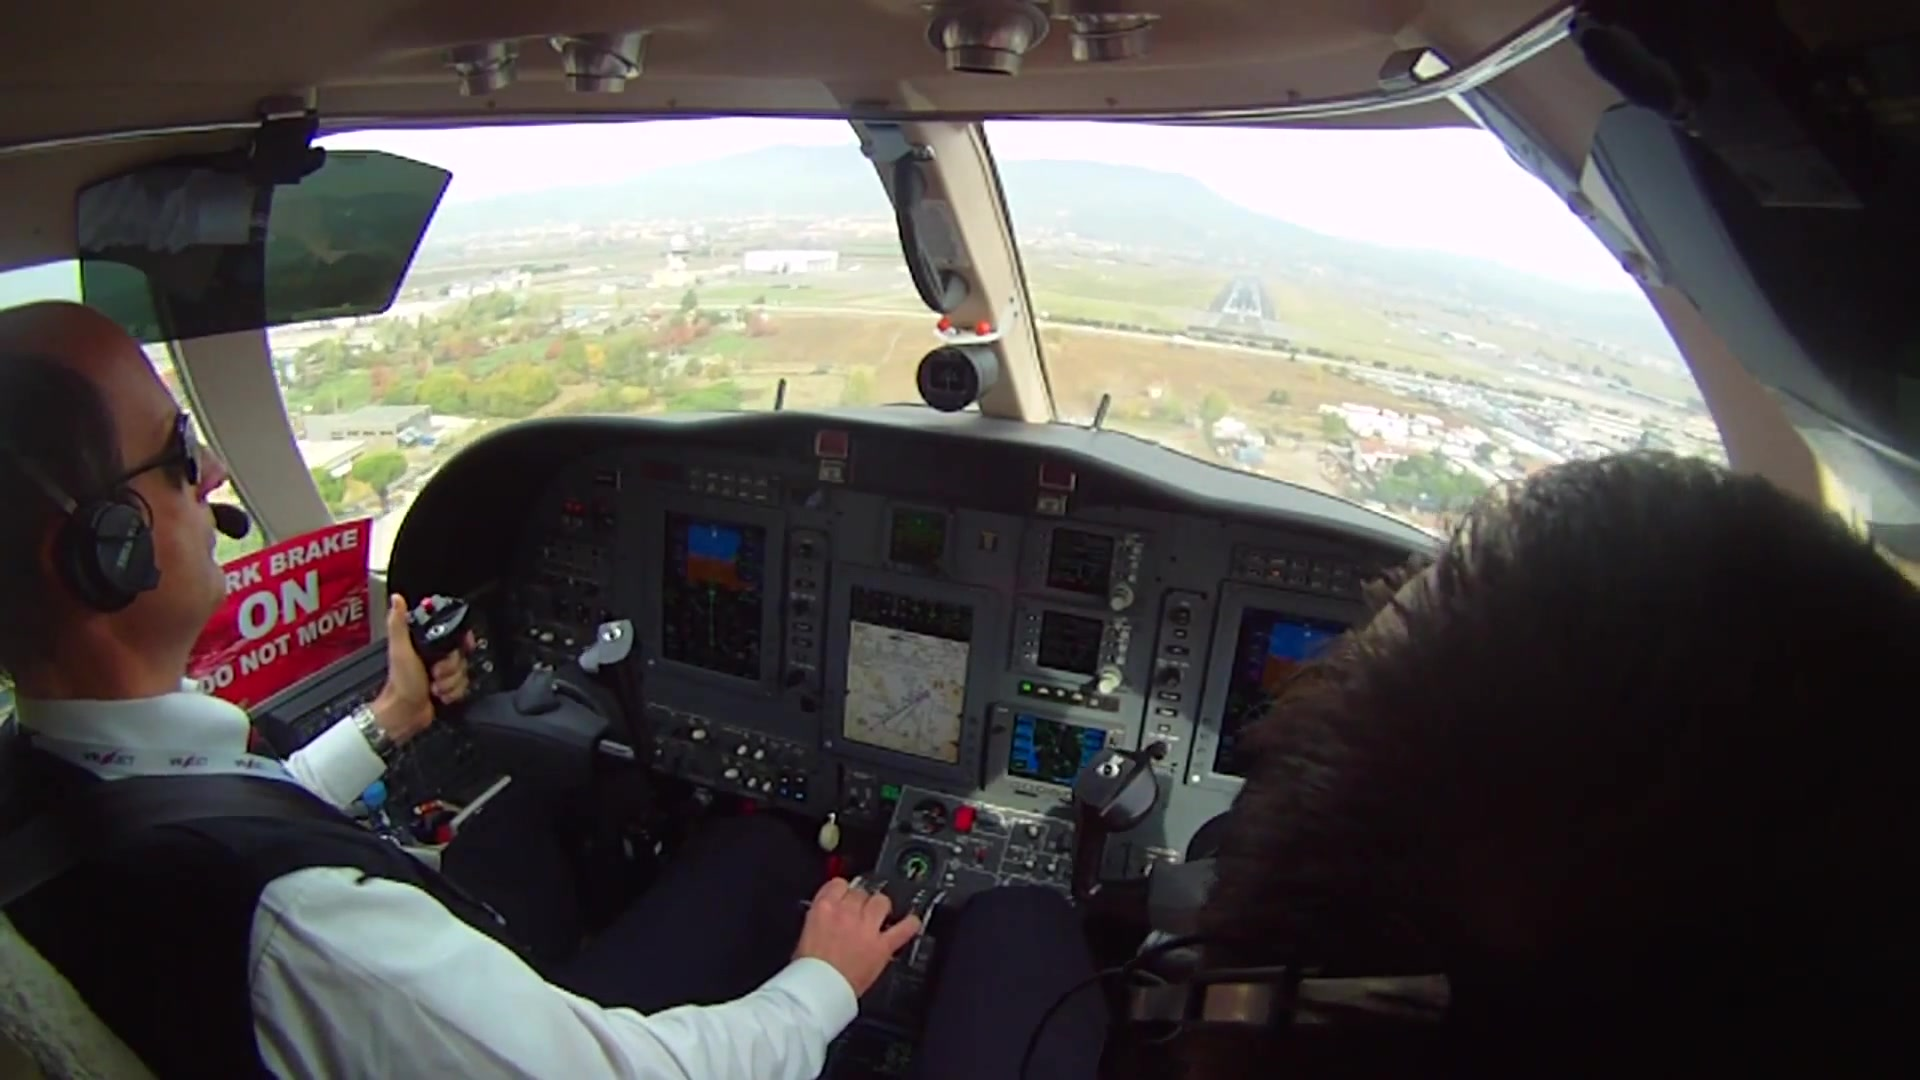entrance: (1222, 305, 1261, 316)
runway: (1224, 274, 1265, 318)
